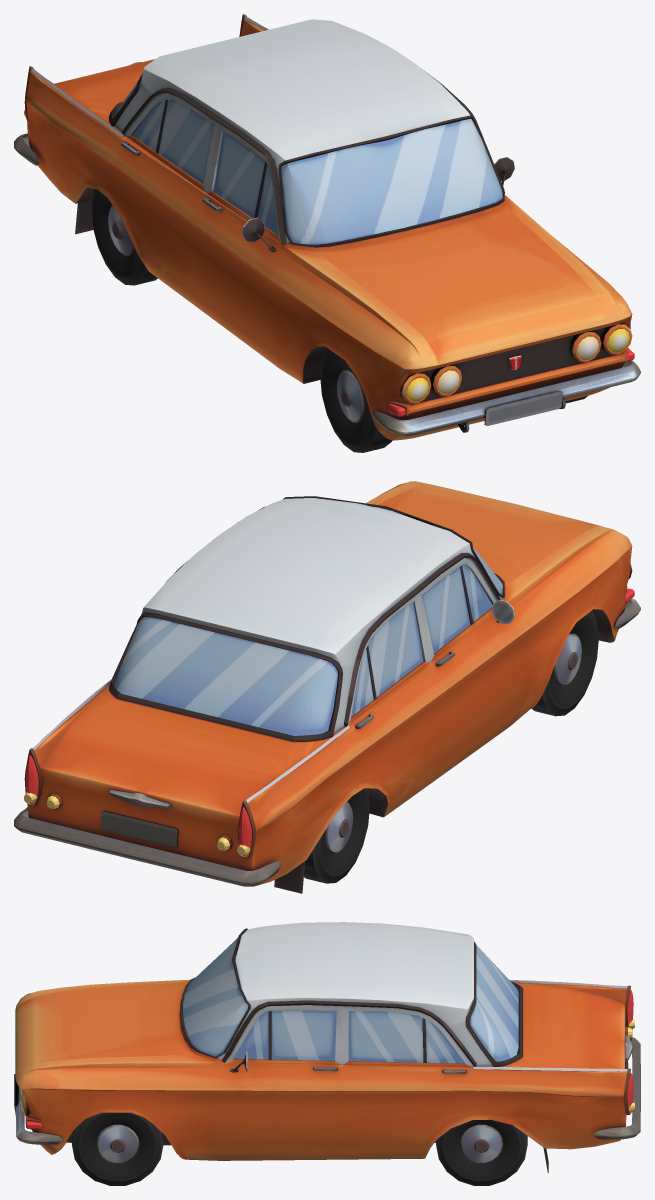
File: Car-1.fbx
3 renders of one model, top to bottom at view 1: azimuth 30°, elevation 25°; view 2: azimuth 150°, elevation 25°; view 3: azimuth 270°, elevation 25°, orthographic. The views are drawn at different scales.
Parts seen in each view (by area): view 1: Car-1, Car-1-W-F-R, Car-1-w-Back; view 2: Car-1, Car-1-W-F-R, Car-1-w-Back; view 3: Car-1, Car-1-W-F-L, Car-1-w-Back.
Part boxes in pixels (x1=…): Car-1: x1=14, y1=14, x2=640, y2=440; Car-1-W-F-R: x1=320, y1=348, x2=391, y2=452; Car-1-w-Back: x1=91, y1=189, x2=157, y2=285; Car-1: x1=14, y1=481, x2=640, y2=893; Car-1-W-F-R: x1=531, y1=611, x2=598, y2=716; Car-1-w-Back: x1=304, y1=788, x2=369, y2=883; Car-1: x1=14, y1=922, x2=640, y2=1173; Car-1-W-F-L: x1=72, y1=1112, x2=163, y2=1185; Car-1-w-Back: x1=436, y1=1119, x2=527, y2=1185.
Bounding box in the file's own units: 1.81 × 1.49 × 4.52.
